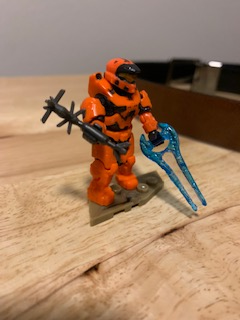spartan: (78, 53, 166, 209)
